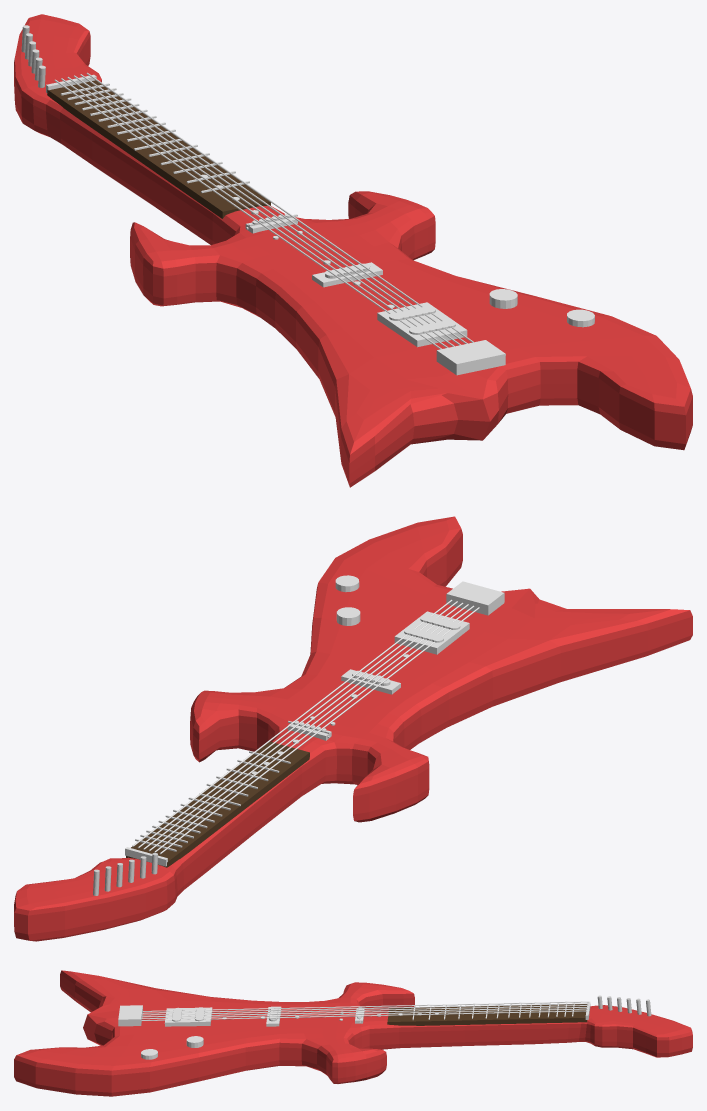
Rendered from mod_gitara2.fbx.
3 views of the same model, one above another, from view 1: azimuth 30°, elevation 25°; view 2: azimuth 150°, elevation 25°; view 3: azimuth 270°, elevation 25° (orthographic). The views are drawn at different scales.
Parts seen in each view (by area): view 1: Gitara_Export; view 2: Gitara_Export; view 3: Gitara_Export.
Part boxes in pixels (x1,y1,x2,y2): Gitara_Export: [14, 14, 692, 487]; Gitara_Export: [14, 516, 692, 941]; Gitara_Export: [14, 970, 692, 1096].
Bounding box in the file's own units: 0.0361 × 0.00724 × 0.1004.
